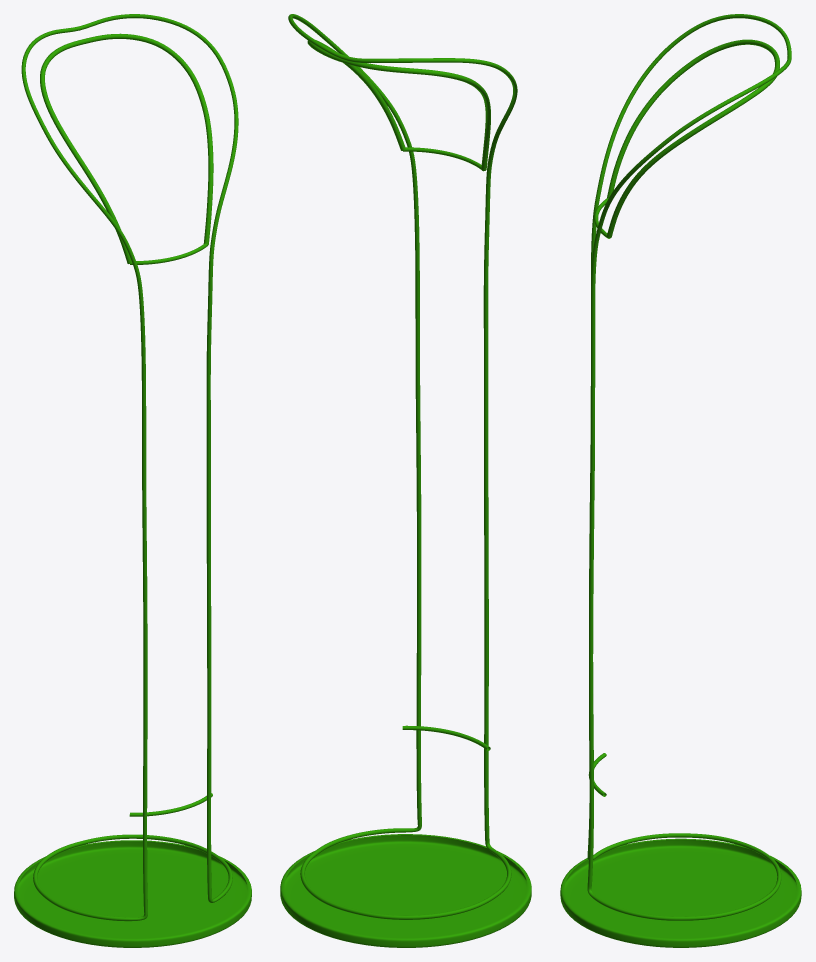
File: frame.obj
3 renders of one model, left to right at view 1: azimuth 30°, elevation 25°; view 2: azimuth 150°, elevation 25°; view 3: azimuth 270°, elevation 25°, orthographic. The views are drawn at different scales.
Parts seen in each view (by area): view 1: GLMG-Frame_Mesh.002; view 2: GLMG-Frame_Mesh.002; view 3: GLMG-Frame_Mesh.002.
Boxes of the visible parts, <box> form: GLMG-Frame_Mesh.002: <box>14,14,251,947</box>; GLMG-Frame_Mesh.002: <box>280,14,531,947</box>; GLMG-Frame_Mesh.002: <box>560,14,801,947</box>.
Bounding box in the file's own units: 27.58 × 107 × 27.58.
